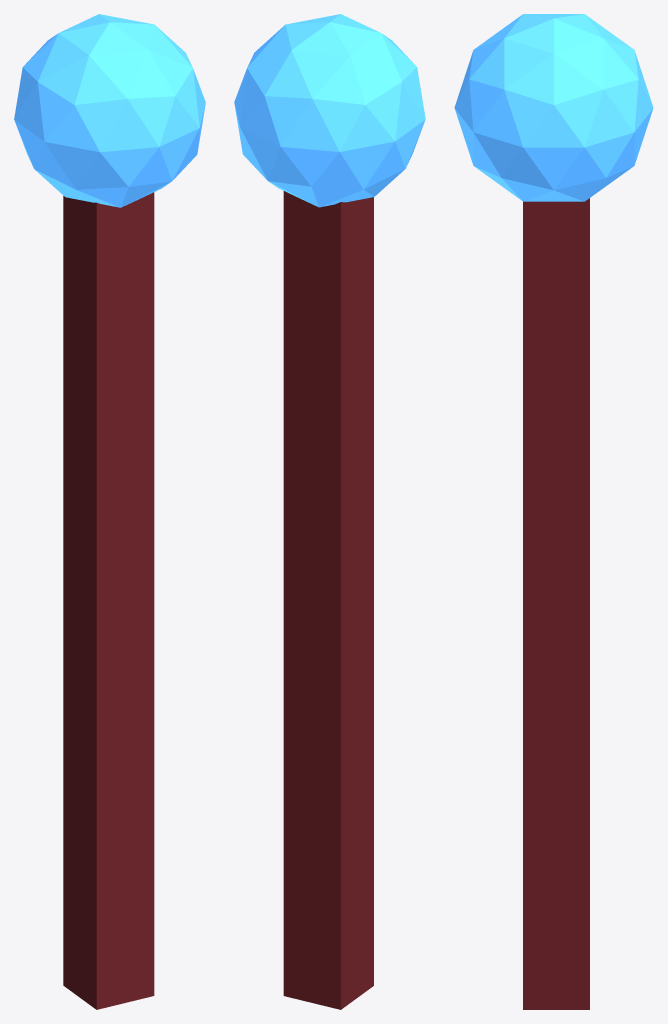
Rendered from wand.fbx.
3 renders of one model, left to right at view 1: azimuth 30°, elevation 25°; view 2: azimuth 150°, elevation 25°; view 3: azimuth 270°, elevation 25°, orthographic.
Parts seen in each view (by area): view 1: Cube, Icosphere; view 2: Cube, Icosphere; view 3: Cube, Icosphere.
Boxes of the visible parts, x1=… form: Cube: x1=63, y1=192, x2=154, y2=1009; Icosphere: x1=14, y1=14, x2=205, y2=207; Cube: x1=283, y1=191, x2=373, y2=1009; Icosphere: x1=234, y1=14, x2=425, y2=207; Cube: x1=523, y1=198, x2=589, y2=1009; Icosphere: x1=454, y1=14, x2=653, y2=201.
Size of the model in its own units: 39.26 by 225 by 41.63.
